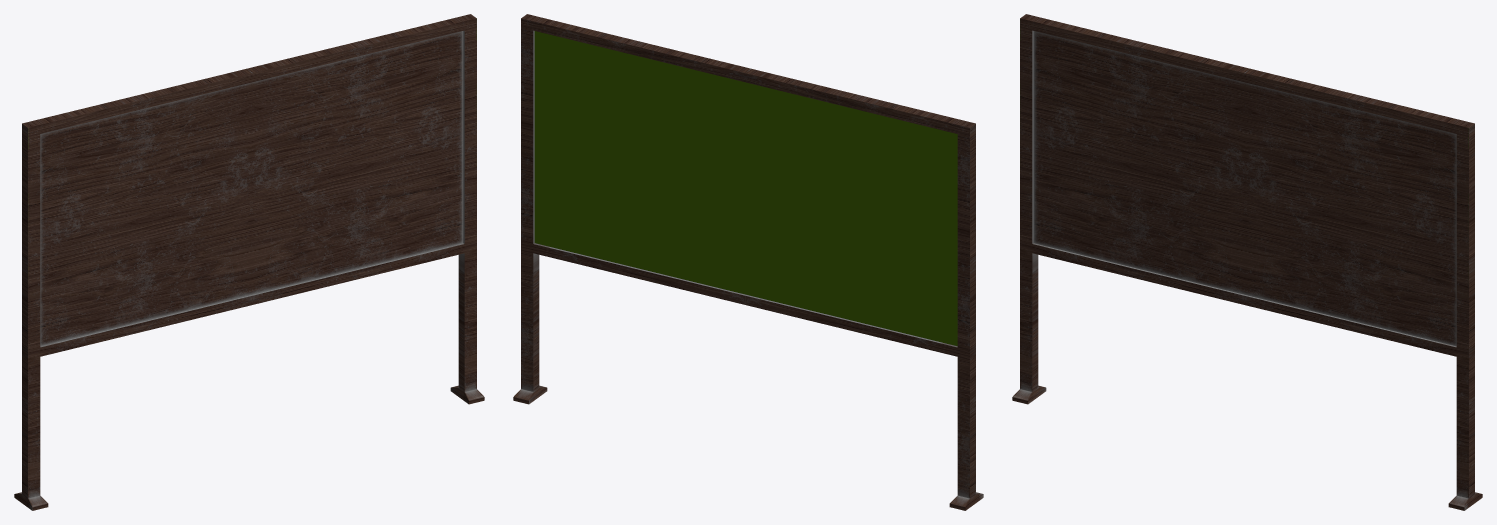
The model's file is doska.fbx.
3 renders of one model, left to right at view 1: azimuth 30°, elevation 25°; view 2: azimuth 150°, elevation 25°; view 3: azimuth 330°, elevation 25°, orthographic.
Visible parts, largest first — view 1: Cube; view 2: Cube; view 3: Cube.
Part boxes in pixels (x1,y1,x2,y2): Cube: [14, 14, 484, 510]; Cube: [513, 14, 983, 510]; Cube: [1012, 14, 1482, 510].
Bounding box in the file's own units: 1214 × 970 × 84.25.
Materials: 1 (1 with a texture image).
